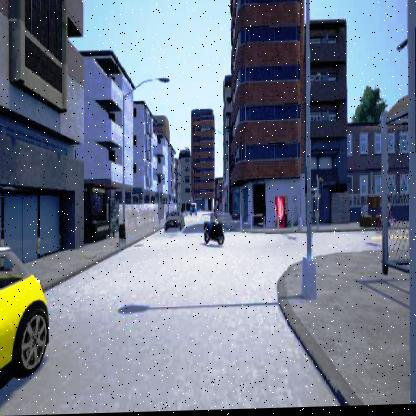motobike: (203, 209, 224, 246)
vehicle: (0, 245, 49, 389), (164, 210, 184, 232)
